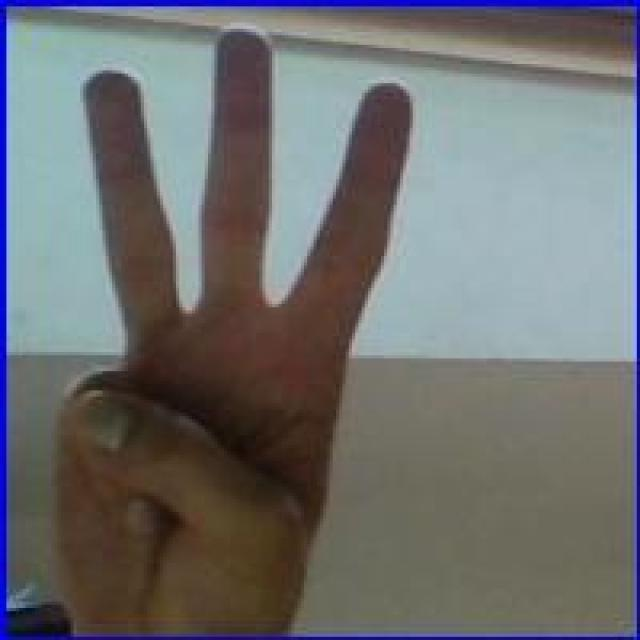W: (51, 19, 419, 640)
